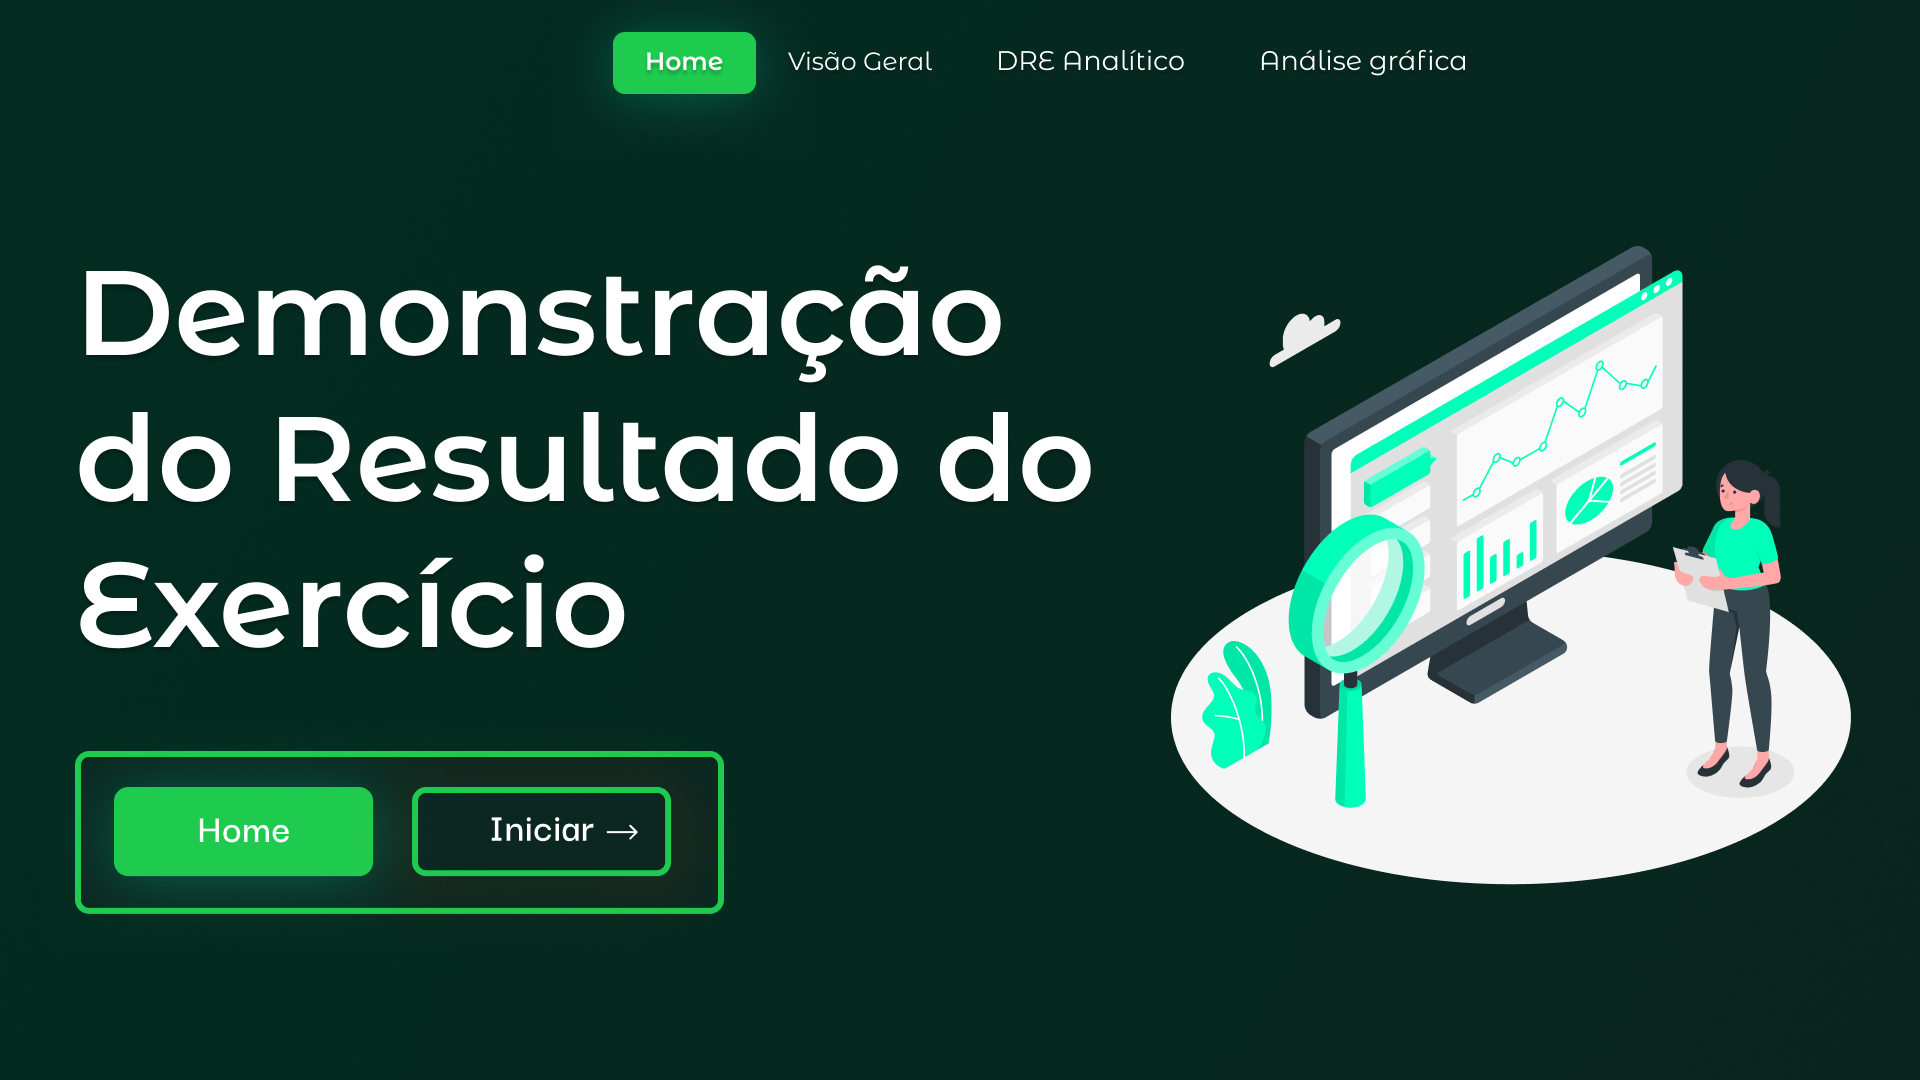

The page's visual inventory and layout, read from the dashboard file:
{"tool":"powerbi","page":{"name":"Home","canvas":[1280,720],"ordinal":0},"visuals":[{"type":"actionButton","box":[523,21.3,100.6,39.7],"z":0},{"type":"actionButton","box":[660.5,21.3,134.6,39.7],"z":1000},{"type":"actionButton","box":[837.6,21.3,146,39.7],"z":2000},{"type":"actionButton","box":[277.8,528.7,168.7,53.9],"z":3000}]}

Visuals, with their boxes in screenshot pixels (x1, y1, x2, y2), scaled from the page's 1280x720 canvas onto the 1920x1080 screenshot:
actionButton: bbox=[784, 32, 935, 92]
actionButton: bbox=[991, 32, 1193, 92]
actionButton: bbox=[1256, 32, 1475, 92]
actionButton: bbox=[417, 793, 670, 874]
